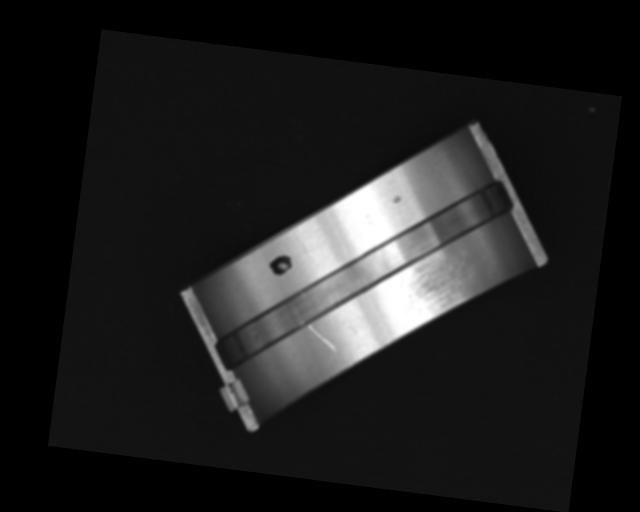blot: (267, 251, 294, 279)
bruise: (391, 194, 402, 205)
gap: (211, 151, 516, 403)
nick: (306, 323, 341, 351), (292, 235, 318, 265)
scratch: (397, 252, 479, 330)
